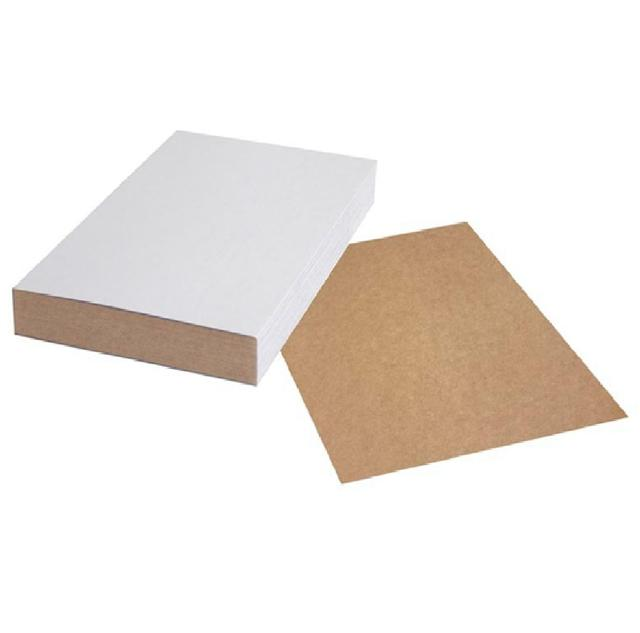plastic: (264, 193, 625, 488)
